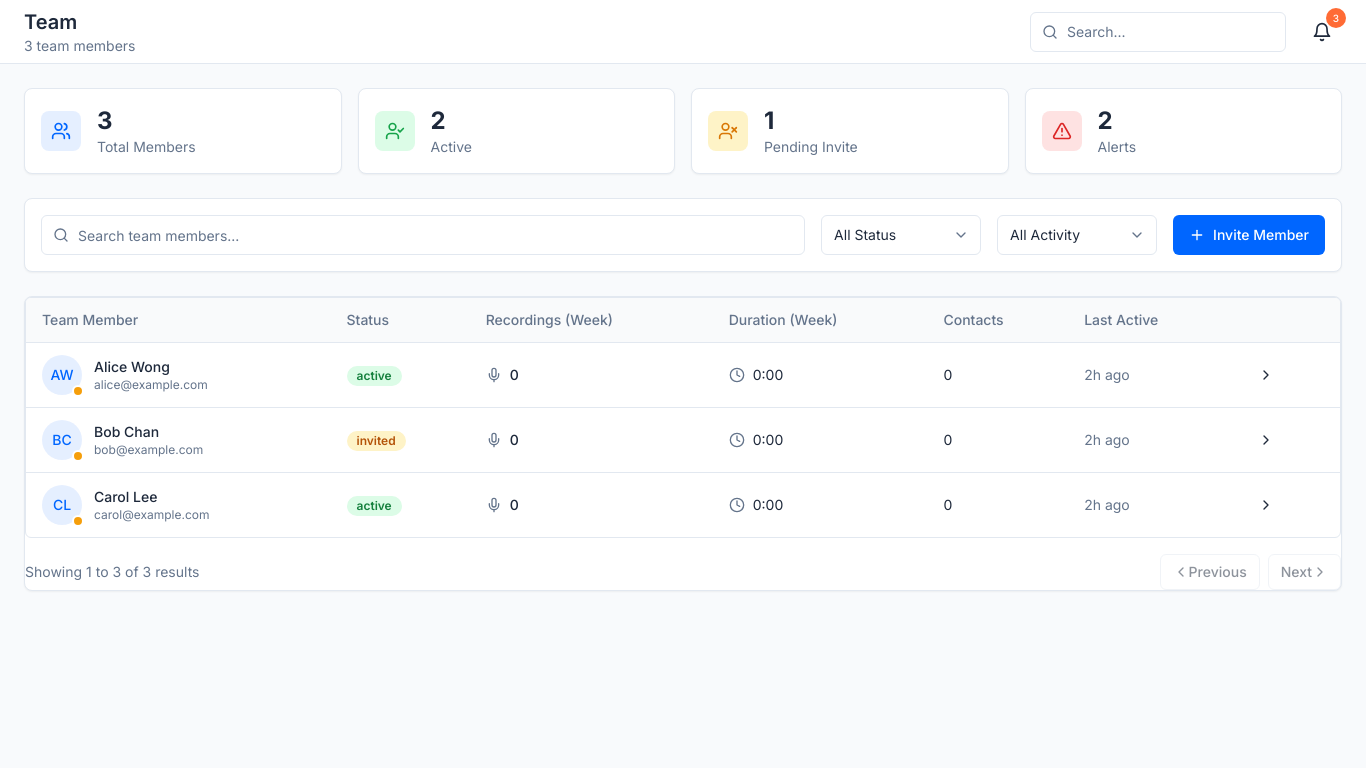
Test: TeamPage — status filter › shows all members when "all" selected
Note: Set to active first, then back to all
Select "Active" in the 1st dropdown at x=901, y=235, box [821, 215, 981, 255]
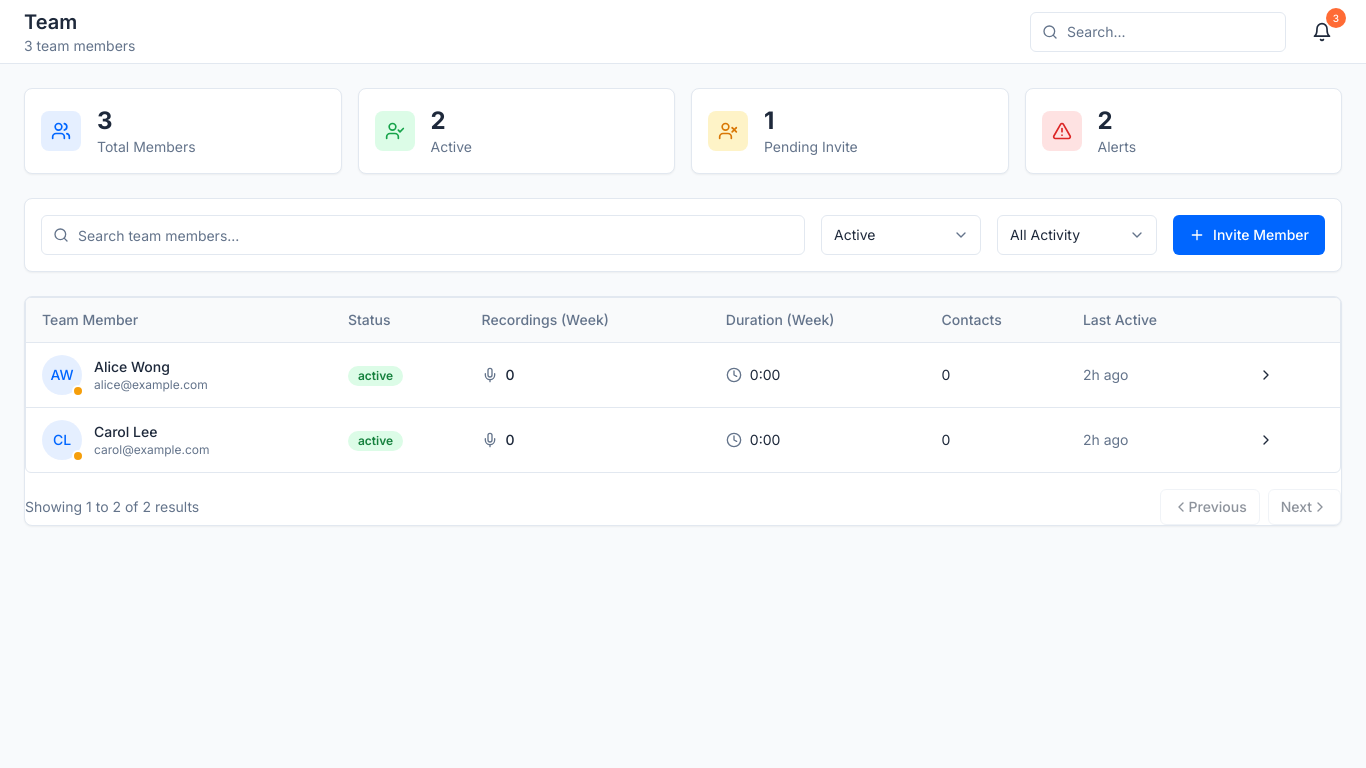
Select "All Status" in the 1st dropdown at x=901, y=235, box [821, 215, 981, 255]
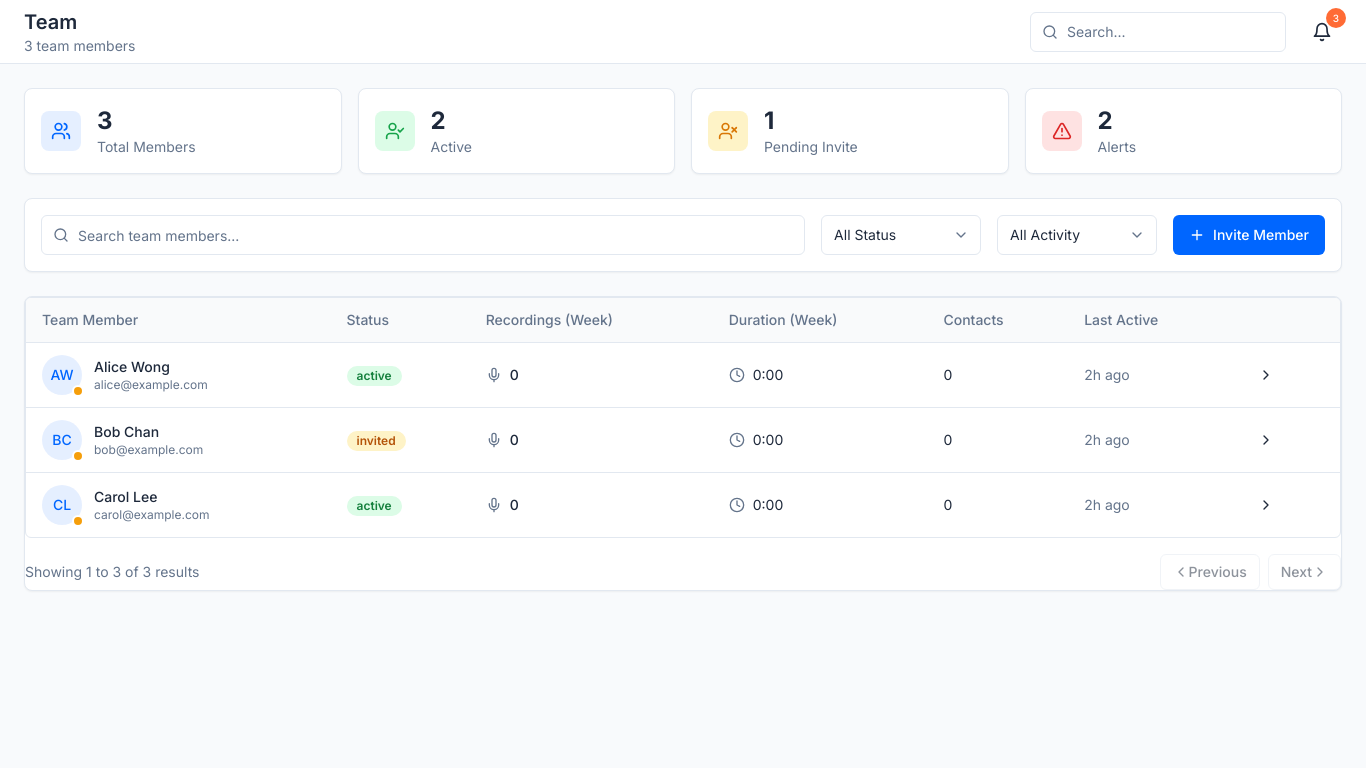
Check: the text "Alice Wong" is shown, box [94, 357, 170, 377]
Check: the text "Bob Chan" is shown, box [94, 422, 159, 442]
